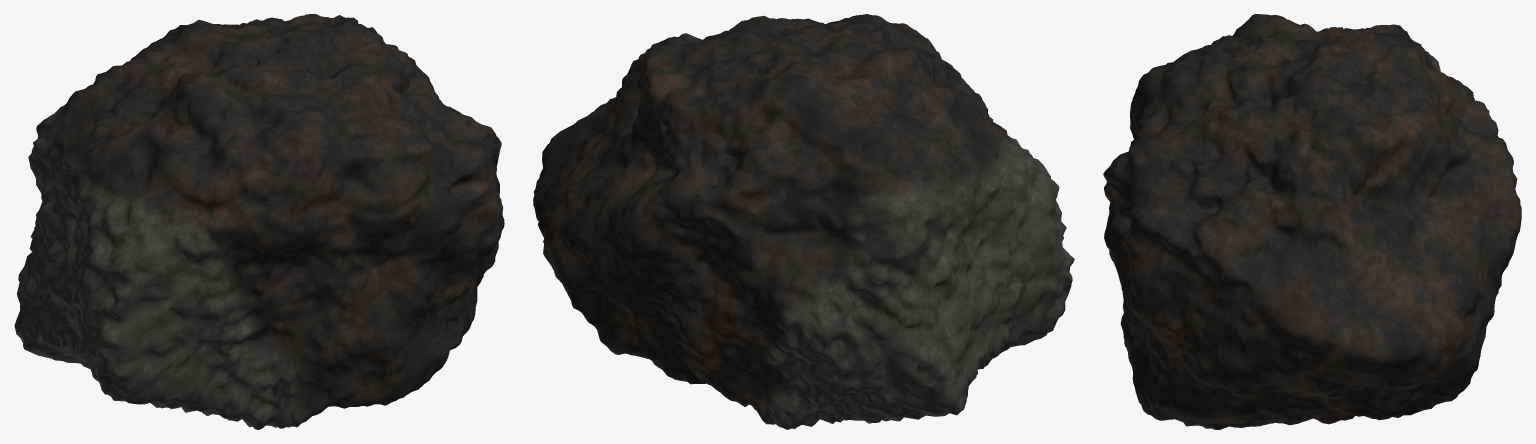
Rendered from chelyabinsk-main-mass.glb.
3 views of the same model, side by side, from view 1: azimuth 30°, elevation 25°; view 2: azimuth 150°, elevation 25°; view 3: azimuth 270°, elevation 25° (orthographic). The views are drawn at different scales.
Visible parts, largest first — view 1: Chelyabinsk Main Mass; view 2: Chelyabinsk Main Mass; view 3: Chelyabinsk Main Mass.
Boxes of the visible parts, bbox=[...] form: Chelyabinsk Main Mass: bbox=[14, 14, 504, 429]; Chelyabinsk Main Mass: bbox=[533, 14, 1074, 429]; Chelyabinsk Main Mass: bbox=[1103, 14, 1521, 429].
Size of the model in its own units: 0.9205 by 0.63 by 0.7001.
1 material, 1 textured.
